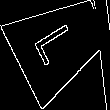L_NE: (34, 18, 87, 70)
